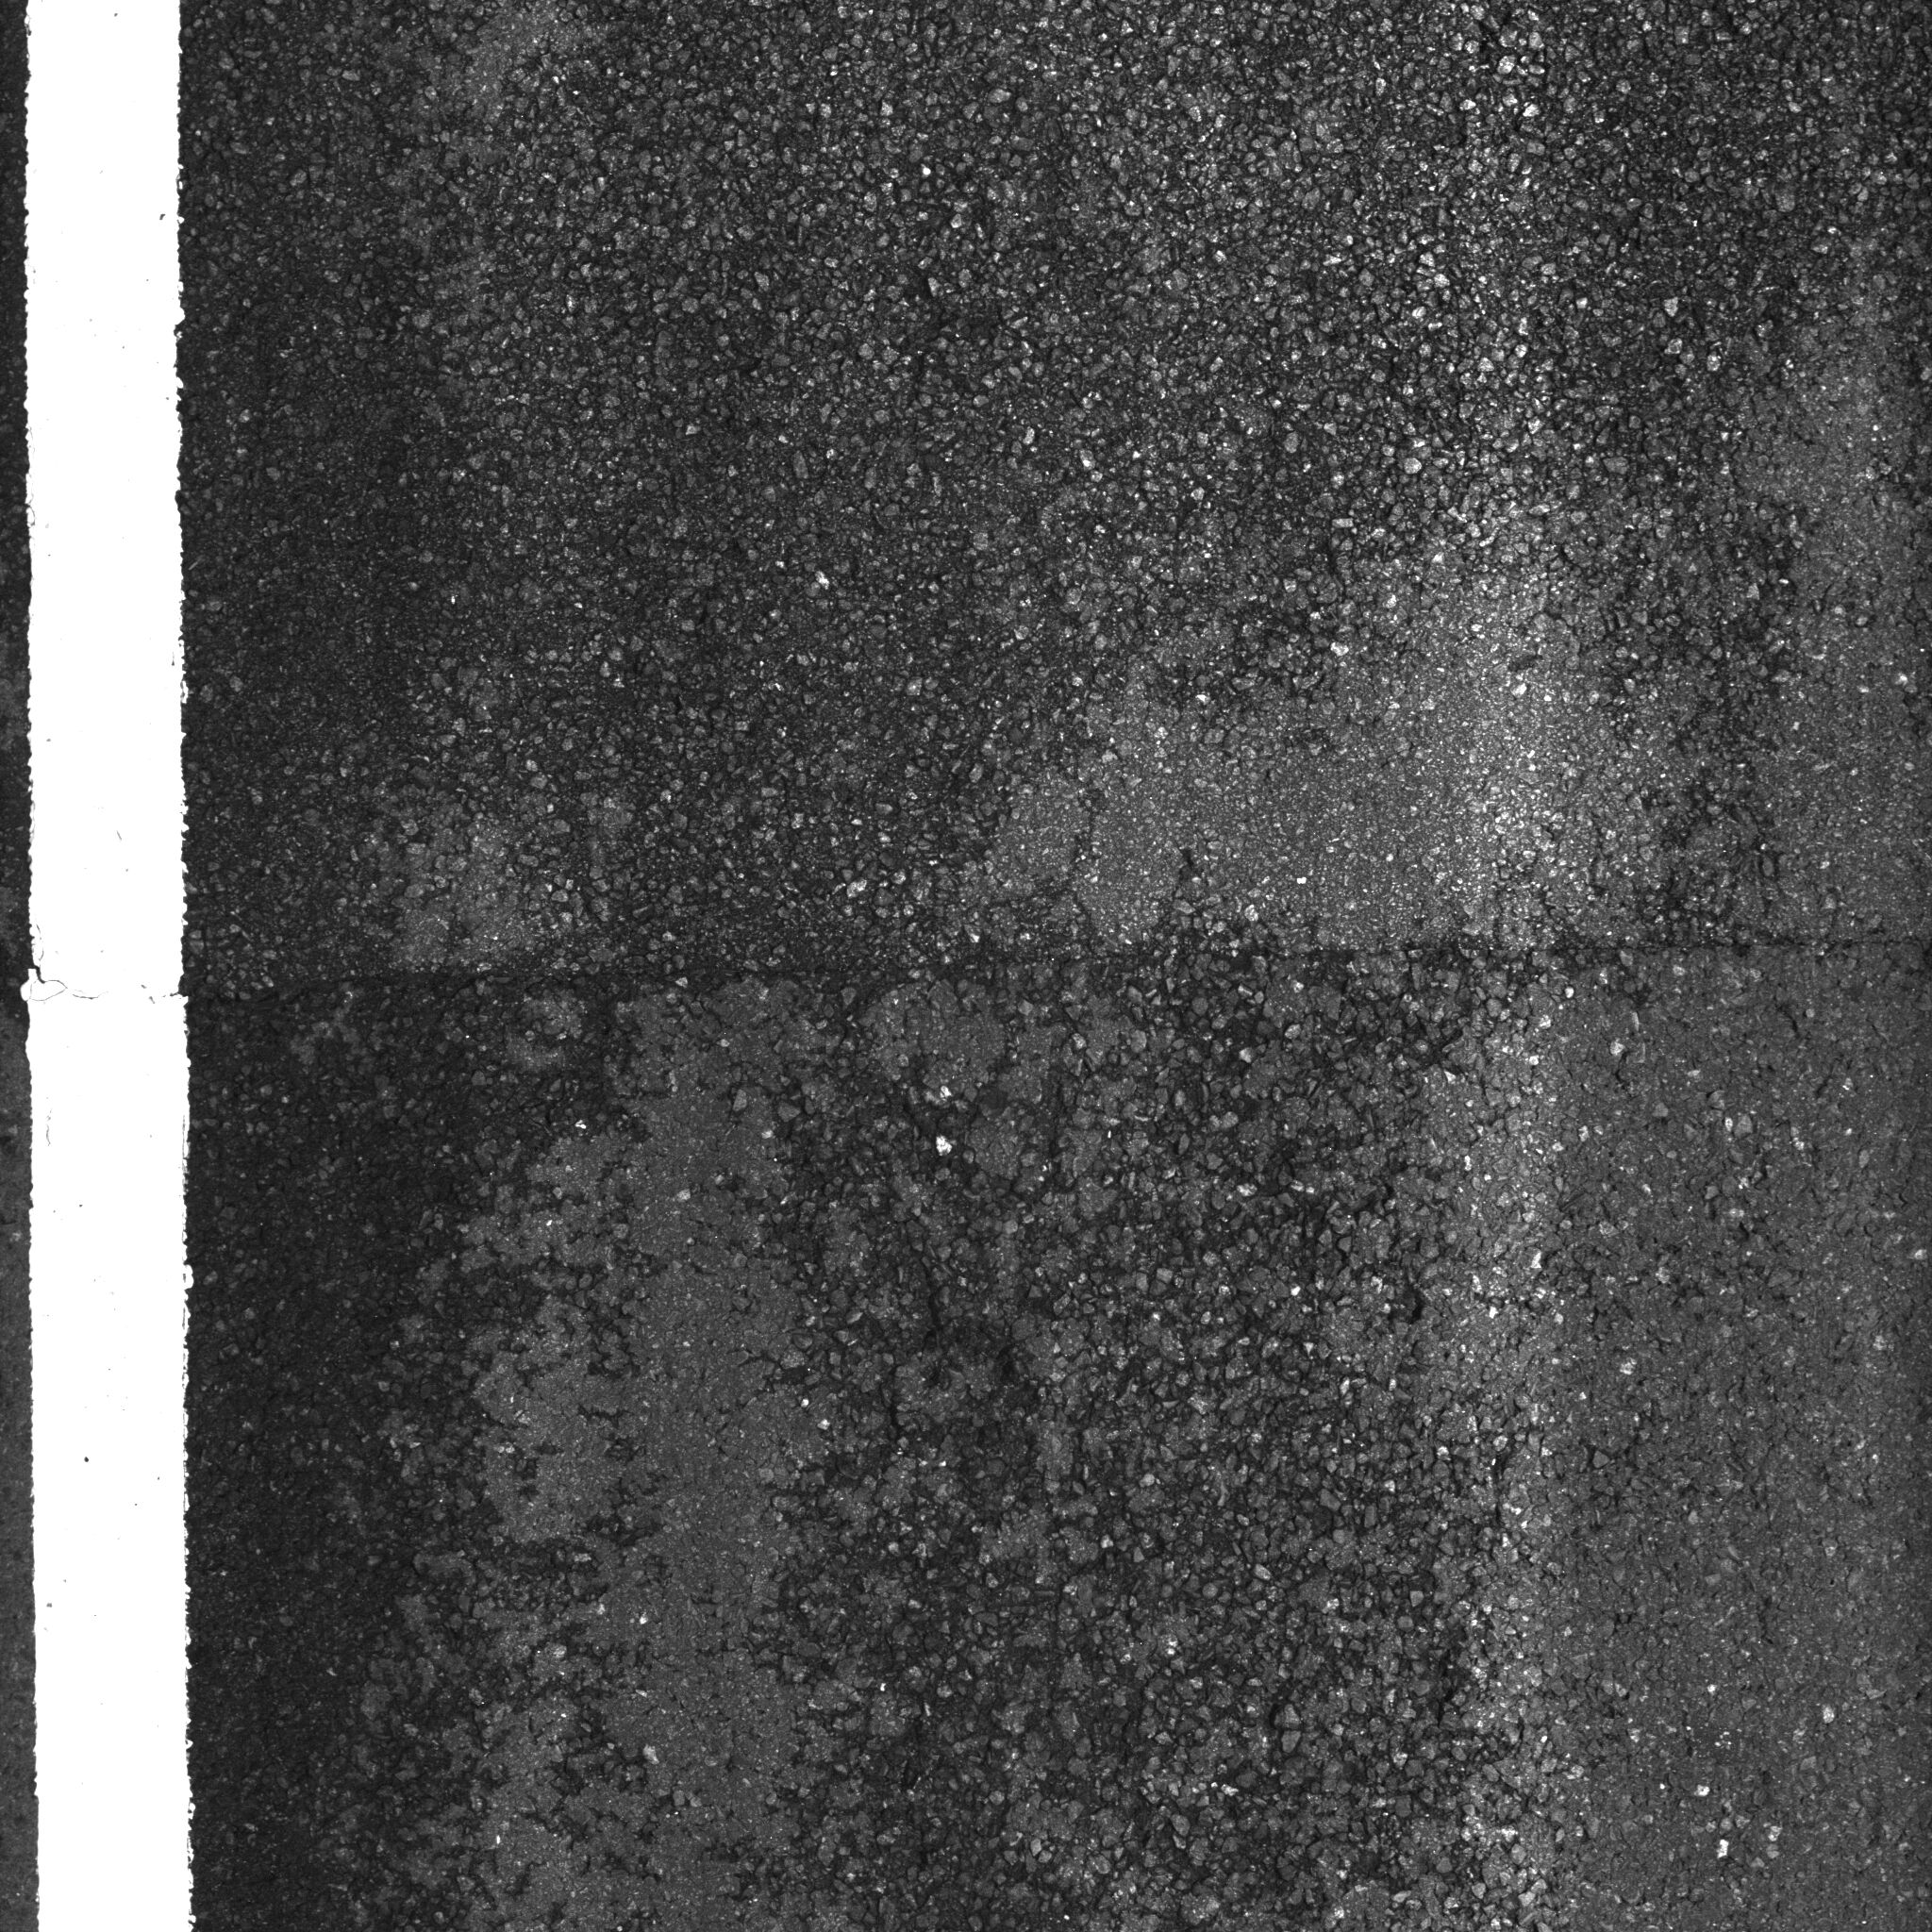transeverse: (186, 890, 1932, 1028)
